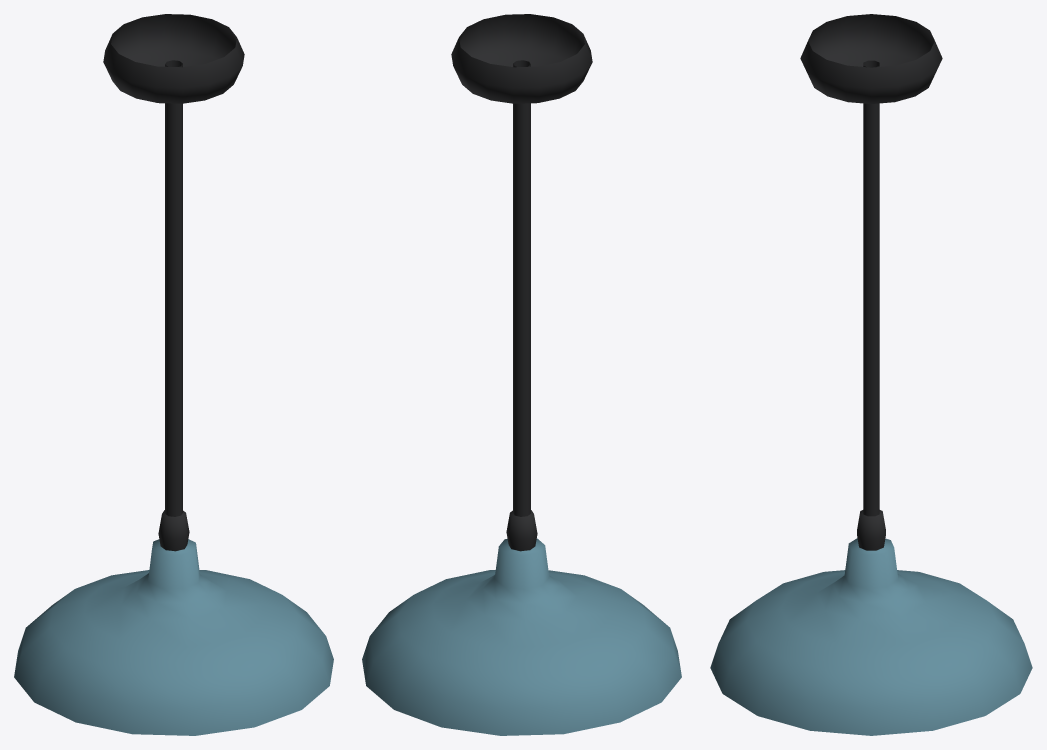
Rendered from Lamp.fbx.
3 views of the same model, side by side, from view 1: azimuth 30°, elevation 25°; view 2: azimuth 150°, elevation 25°; view 3: azimuth 270°, elevation 25° (orthographic).
Visible parts, largest first — view 1: Lamp; view 2: Lamp; view 3: Lamp.
Boxes of the visible parts, x1,y1,x2,y2 form: Lamp: (14,14,333,735); Lamp: (362,14,681,735); Lamp: (710,14,1032,735).
Bounding box in the file's own units: 14.72 × 14.72 × 31.72.
